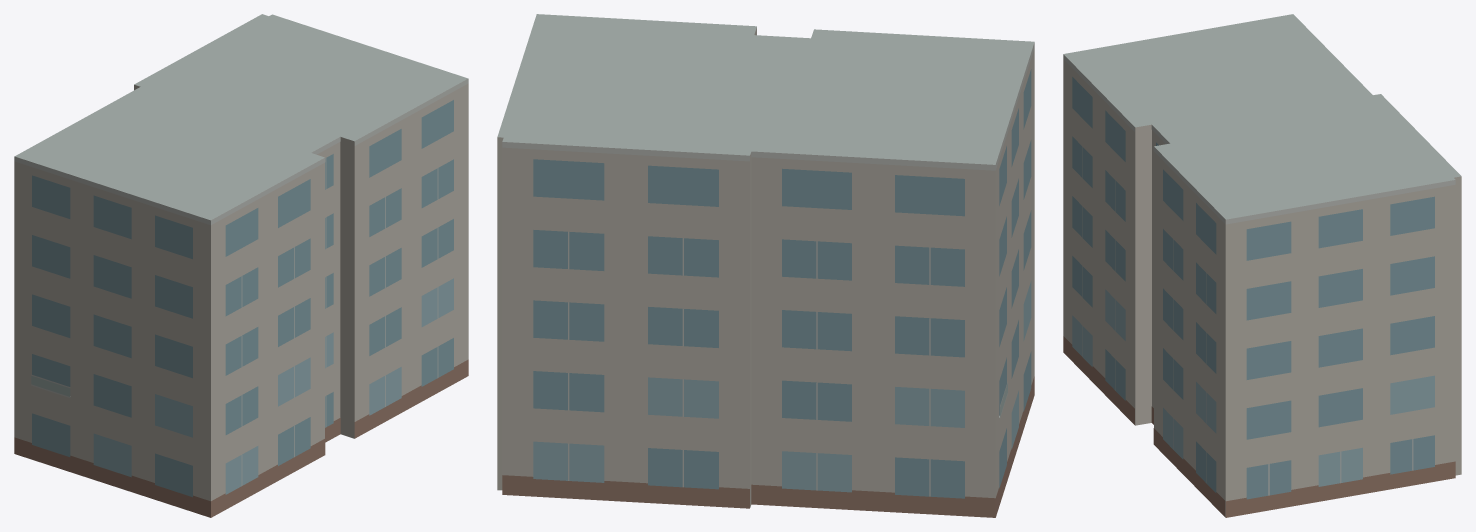
Rendered from survey-upis-32627493.glb.
The picture shows the model from 3 angles, left to right: view 1: azimuth 30°, elevation 25°; view 2: azimuth 150°, elevation 25°; view 3: azimuth 270°, elevation 25°; orthographic projection. The views are drawn at different scales.
Visible parts, largest first — view 1: survey-upis-32627493.tmp; view 2: survey-upis-32627493.tmp; view 3: survey-upis-32627493.tmp.
Part boxes in pixels (x1,y1,x2,y2): survey-upis-32627493.tmp: [14, 14, 468, 517]; survey-upis-32627493.tmp: [497, 14, 1034, 517]; survey-upis-32627493.tmp: [1063, 14, 1461, 517].
Bounding box in the file's own units: 22.05 × 14.9 × 18.05.
